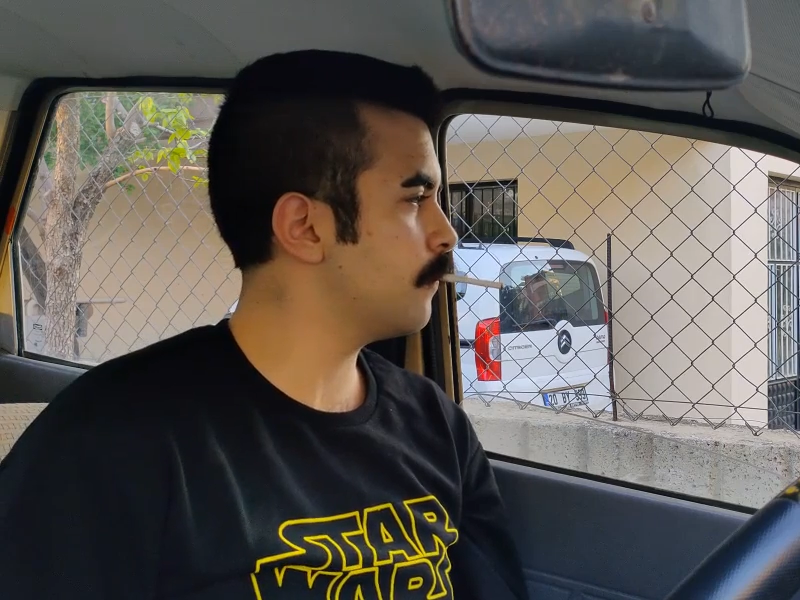sigara: (439, 273, 505, 290)
